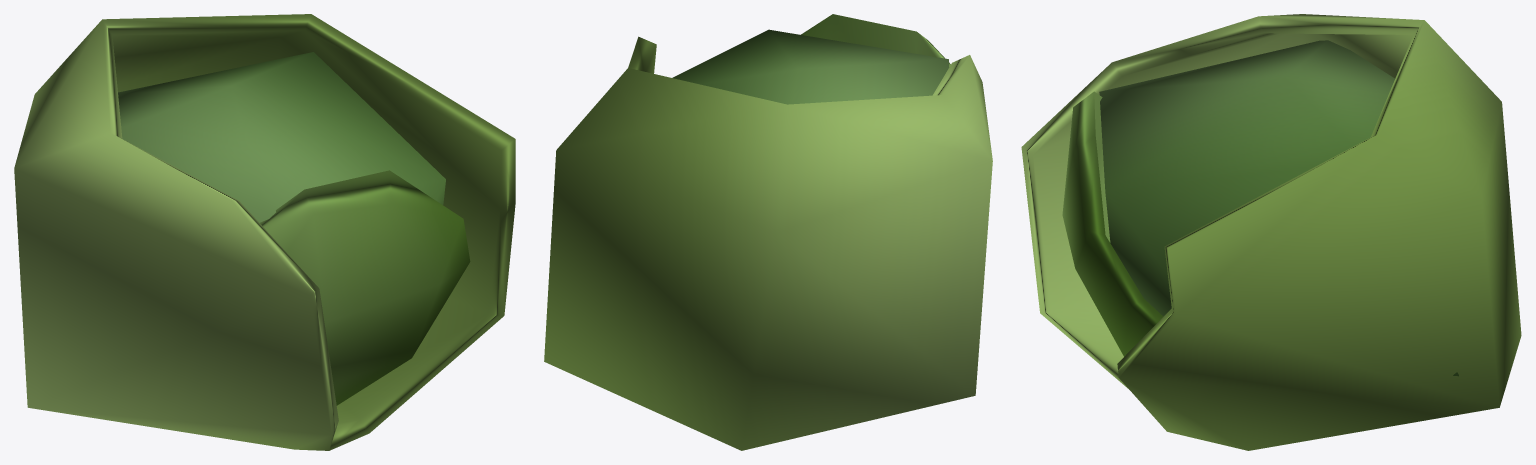
Rendered from Cabbage.fbx.
3 views of the same model, side by side, from view 1: azimuth 30°, elevation 25°; view 2: azimuth 150°, elevation 25°; view 3: azimuth 270°, elevation 25° (orthographic). The views are drawn at different scales.
Parts seen in each view (by area): view 1: Cabbage; view 2: Cabbage; view 3: Cabbage.
Boxes of the visible parts, bbox=[...] form: Cabbage: bbox=[14, 14, 515, 450]; Cabbage: bbox=[544, 14, 992, 450]; Cabbage: bbox=[1021, 14, 1521, 450].
Size of the model in its own units: 0.4323 by 0.35 by 0.4348.
Materials: 1 (1 with a texture image).
